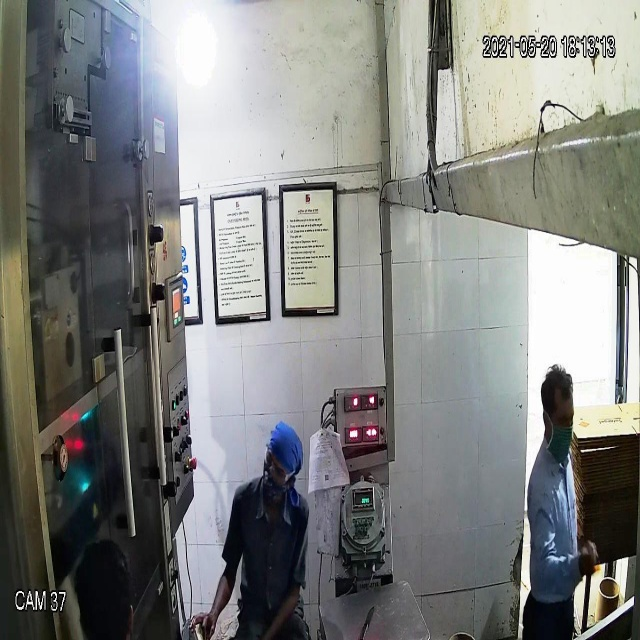Gafas: (262, 446, 297, 485)
